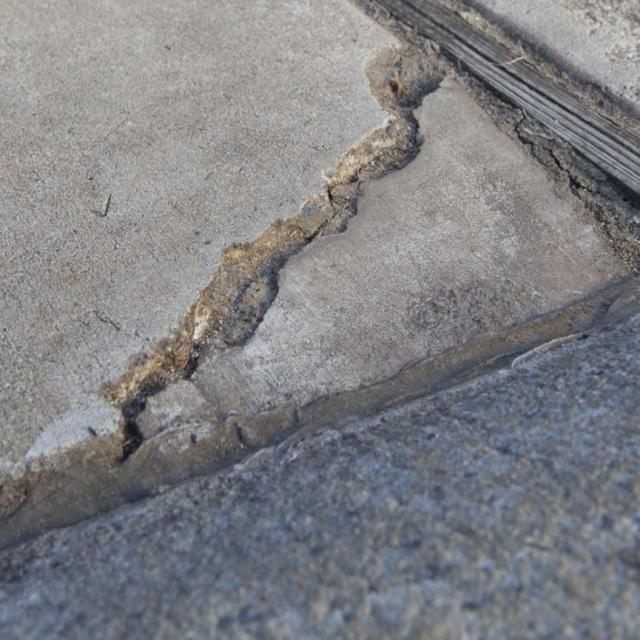Pothole: (160, 8, 640, 640)
